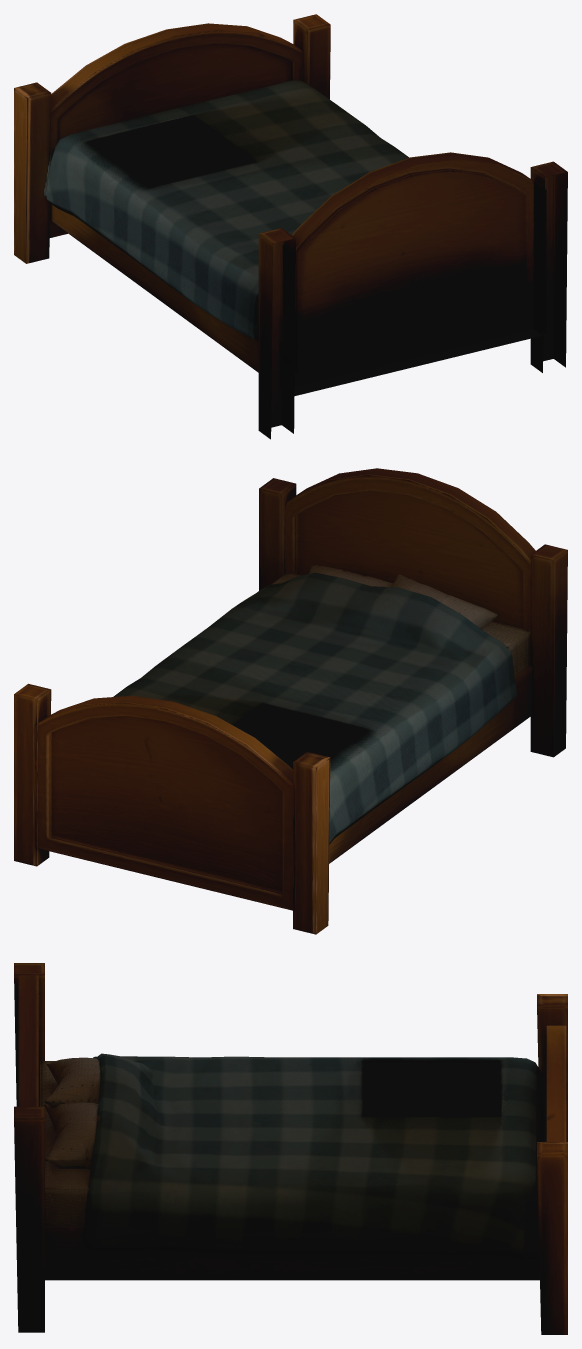
The model's file is G2_SM_lit.gltf.
The picture shows the model from 3 angles, top to bottom: view 1: azimuth 30°, elevation 25°; view 2: azimuth 150°, elevation 25°; view 3: azimuth 270°, elevation 25°; orthographic projection. The views are drawn at different scales.
Parts seen in each view (by area): view 1: lit; view 2: lit; view 3: lit.
Part boxes in pixels (x1=…): lit: x1=14, y1=14, x2=567, y2=439; lit: x1=14, y1=468, x2=567, y2=934; lit: x1=14, y1=963, x2=567, y2=1334.
Size of the model in its own units: 1.1 by 0.8335 by 1.61.
